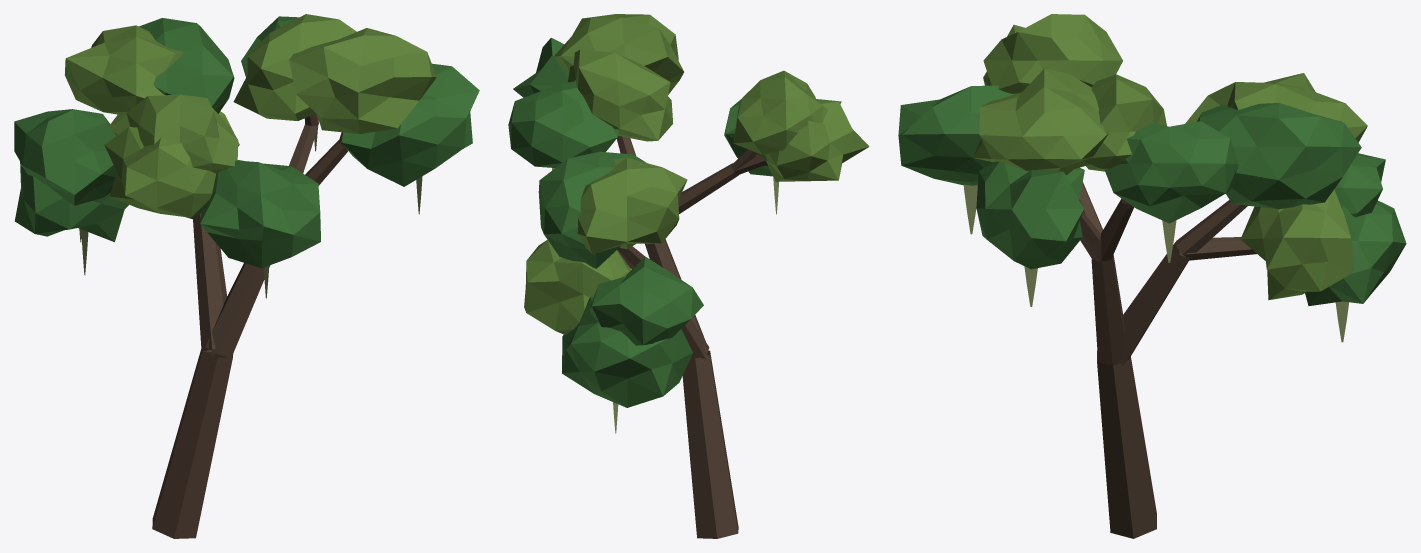
Rendered from DV_Tree_CloudForest.obj.
3 renders of one model, left to right at view 1: azimuth 30°, elevation 25°; view 2: azimuth 150°, elevation 25°; view 3: azimuth 270°, elevation 25°, orthographic. The views are drawn at different scales.
Parts seen in each view (by area): view 1: canopy_11, canopy_6, canopy_10, trunk, canopy_2, canopy_3, canopy_5, canopy_9, canopy_7, canopy_4, canopy_0, trunk_0 (+3 smaller); view 2: canopy_0, canopy_3, trunk, canopy_9, canopy_8, canopy_2, canopy_1, canopy_7, canopy_4, canopy_11, canopy_5, canopy_10 (+4 smaller); view 3: canopy_4, canopy_11, canopy_8, canopy_10, canopy_1, trunk, canopy_7, canopy_6, canopy_0, canopy_9, canopy_3, trunk_1 (+6 smaller).
Part boxes in pixels (box(x1,y1,x2,y2)): canopy_11: box(289, 28, 436, 133); canopy_6: box(200, 160, 320, 268); canopy_10: box(341, 63, 479, 186); trunk: box(152, 349, 233, 538); canopy_2: box(14, 109, 116, 205); canopy_3: box(64, 25, 184, 117); canopy_5: box(104, 127, 215, 217); canopy_9: box(233, 14, 356, 120); canopy_7: box(126, 94, 238, 173); canopy_4: box(139, 18, 234, 113); canopy_0: box(15, 162, 128, 242); trunk_0: box(193, 213, 227, 352); canopy_0: box(562, 296, 692, 407); canopy_3: box(577, 158, 687, 253); trunk: box(682, 350, 738, 538); canopy_9: box(568, 49, 673, 141); canopy_8: box(508, 81, 619, 167); canopy_2: box(589, 256, 703, 345); canopy_1: box(524, 240, 631, 334); canopy_7: box(733, 70, 827, 155); canopy_4: box(538, 151, 646, 268); canopy_11: box(554, 14, 683, 94); canopy_5: box(755, 99, 869, 181); canopy_10: box(513, 37, 569, 97); canopy_4: box(1197, 103, 1361, 209); canopy_11: box(973, 68, 1108, 174); canopy_8: box(1104, 121, 1238, 223); canopy_10: box(976, 161, 1084, 269); canopy_1: box(1240, 189, 1353, 300); trunk: box(1097, 351, 1156, 538); canopy_7: box(983, 14, 1122, 94); canopy_6: box(898, 85, 1013, 185); canopy_0: box(1305, 200, 1406, 305); canopy_9: box(1084, 74, 1166, 171); canopy_3: box(1185, 73, 1367, 142); trunk_1: box(1091, 255, 1128, 365).
Size of the model in its own units: 14.52 by 19.01 by 16.98.
